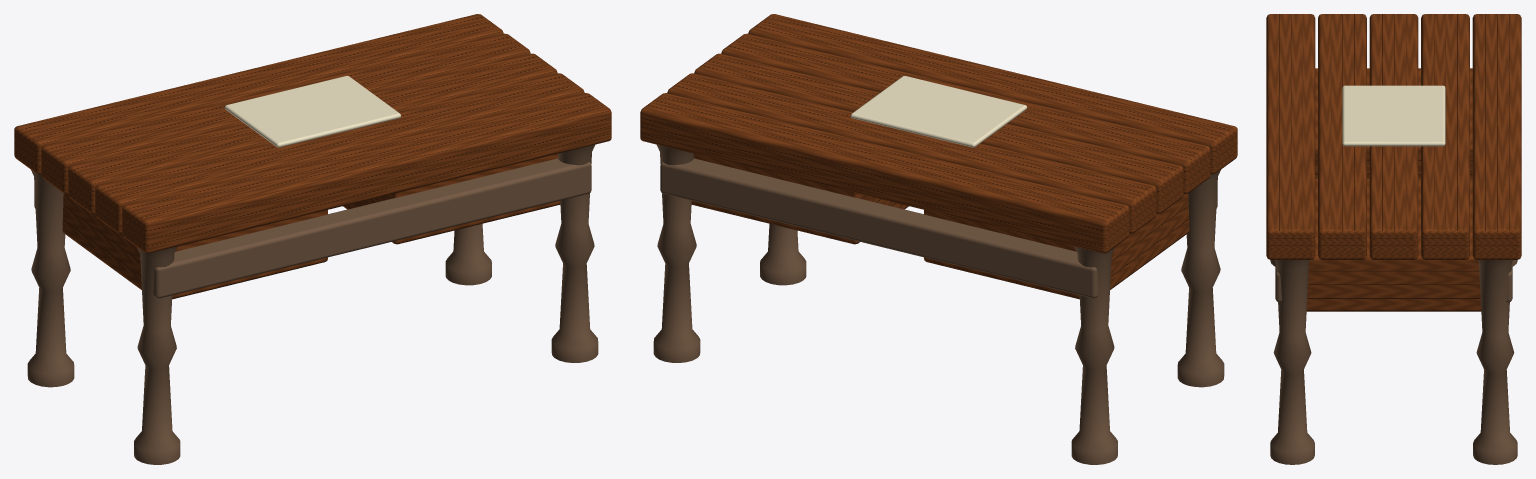
Rendered from adventurers-tavern-and-guild-hall-registry-desk-f0eb5340__24739.glb.
3 views of the same model, side by side, from view 1: azimuth 30°, elevation 25°; view 2: azimuth 150°, elevation 25°; view 3: azimuth 270°, elevation 25° (orthographic). The views are drawn at different scales.
Visible parts, largest first — view 1: registry-desk; view 2: registry-desk; view 3: registry-desk.
Part boxes in pixels (x1,y1,x2,y2): registry-desk: (14, 14, 611, 464); registry-desk: (640, 14, 1237, 464); registry-desk: (1266, 14, 1521, 464).
Size of the model in its own units: 1.5 by 0.785 by 0.742.
Materials: 4 (1 with a texture image).
